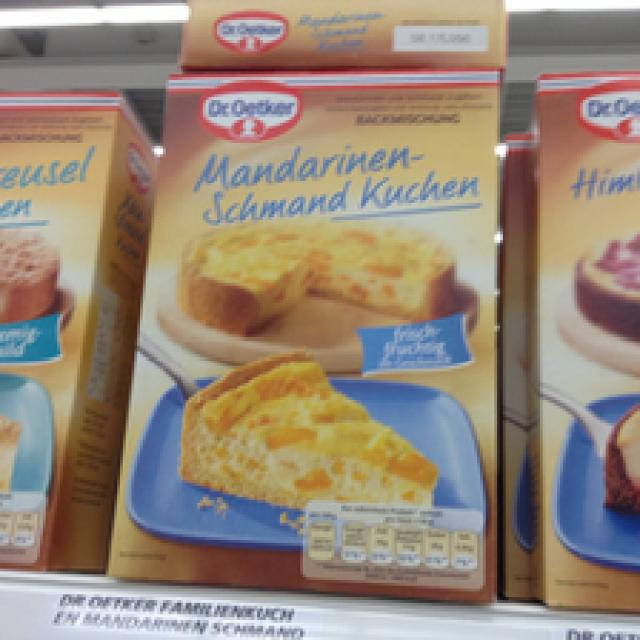groceries: (106, 63, 491, 606), (497, 66, 632, 620)
